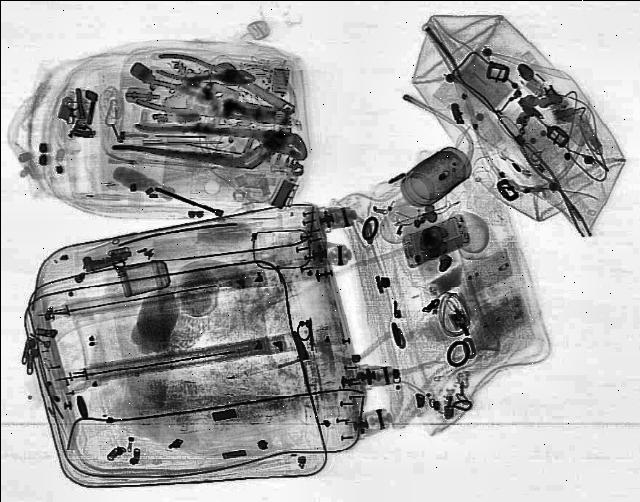Pliers: (130, 79, 250, 127), (152, 52, 256, 90)
Wrench: (202, 57, 300, 121)
